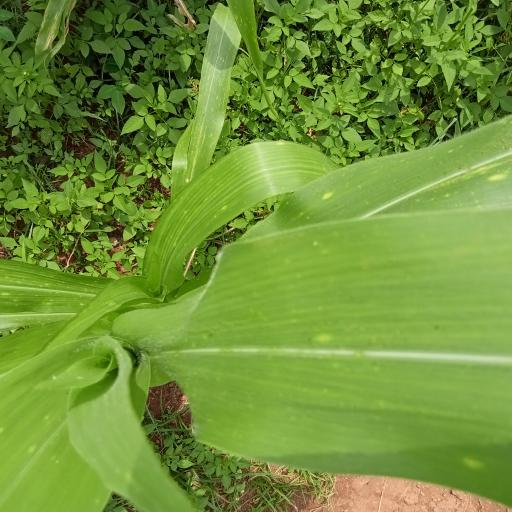Corn_Brown_Spots: (150, 130, 512, 499)
